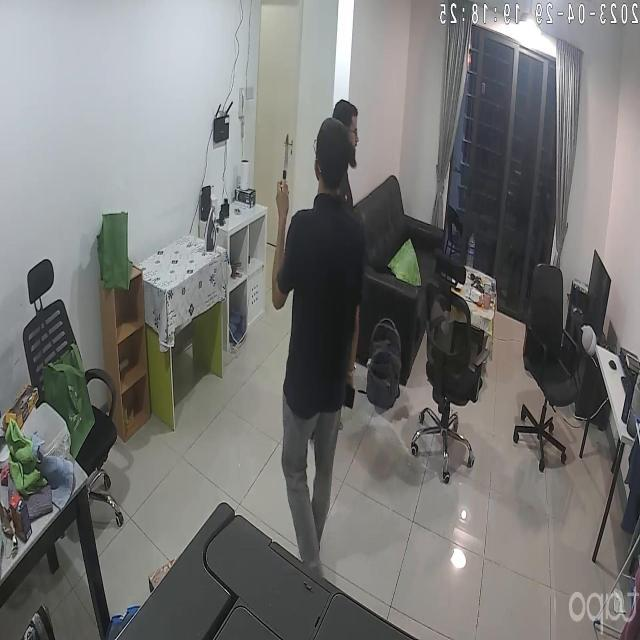Knife: (274, 132, 296, 182)
